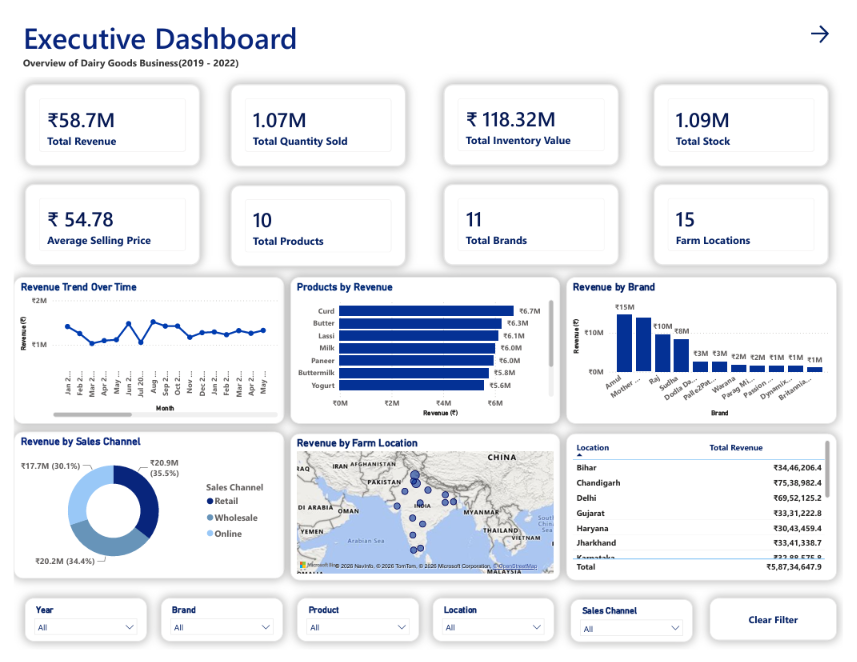

The dashboard page shown, as its layout file describes it:
{"tool":"powerbi","page":{"name":"Executive Dashboard","canvas":[1370,1050],"ordinal":1},"visuals":[{"type":"cardVisual","fields":{"Data":["Measures (2).Total Revenue"]},"box":[18.3,115,290,136.2],"z":0},{"type":"donutChart","title":"Revenue by Sales Channel","fields":{"Category":["Fact_DairySales.Sales Channel"],"Y":["Measures (2).Total Revenue"]},"box":[0,689.9,446.7,243.1],"z":1000},{"type":"map","title":"Revenue by Farm Location","fields":{"Category":["Fact_DairySales.Location"],"Size":["Measures (2).Total Revenue"]},"box":[456.6,693.2,446.7,243.1],"z":2000},{"type":"textbox","box":[10,0,938.3,101.7],"z":3000},{"type":"tableEx","fields":{"Values":["Fact_DairySales.Location","Measures (2).Total Revenue"]},"box":[912.9,692.9,447.1,242.9],"z":4000},{"type":"cardVisual","fields":{"Data":["Measures (2).Average Selling Price"]},"box":[18.3,280,290,135],"z":5000},{"type":"group","id":"g1","title":"Group 2","box":[0,434.3,1360,243.1],"z":6000},{"type":"cardVisual","fields":{"Data":["Measures (2).Total Products"]},"box":[358.3,281.7,290,135],"z":7000},{"type":"cardVisual","fields":{"Data":["Measures (2).Total Brands"]},"box":[710,280,290,135],"z":8000},{"type":"slicer","fields":{"Values":["Calendar.Year"]},"box":[18.3,965,201.7,71.7],"z":9000},{"type":"cardVisual","fields":{"Data":["Measures (2).Total Farm Locations"]},"box":[1056.7,280,290,135],"z":10000},{"type":"lineChart","title":"Revenue Trend Over Time","fields":{"Y":["Measures (2).Total Revenue"],"Category":["Calendar.Year Month"]},"box":[0,434.3,446.7,243.1],"z":10000,"group":"g1"},{"type":"clusteredBarChart","title":"Products by Revenue","fields":{"Category":["Fact_DairySales.Product Name"],"Y":["Measures (2).Total Revenue"]},"box":[456.6,434.3,446.7,243.1],"z":11000,"group":"g1"},{"type":"slicer","fields":{"Values":["Fact_DairySales.Brand"]},"box":[243.3,965,201.7,71.7],"z":11000},{"type":"cardVisual","fields":{"Data":["Measures (2).Total Stock"]},"box":[1056.7,115,290,136.7],"z":12000},{"type":"clusteredColumnChart","title":"Revenue by Brand","fields":{"Y":["Measures (2).Total Revenue"],"Category":["Fact_DairySales.Brand"]},"box":[913.3,434.3,446.7,243.1],"z":12000,"group":"g1"},{"type":"slicer","fields":{"Values":["Fact_DairySales.Product Name"]},"box":[468.3,965,201.7,71.7],"z":13000},{"type":"cardVisual","fields":{"Data":["Measures (2).Total Inventory Value"]},"box":[710,115,290,135],"z":14000},{"type":"slicer","fields":{"Values":["Fact_DairySales.Location"]},"box":[691.7,965,201.7,71.7],"z":15000},{"type":"cardVisual","fields":{"Data":["Measures (2).Total Quantity Sold"]},"box":[358.3,115,290,136.7],"z":16000},{"type":"slicer","fields":{"Values":["Fact_DairySales.Sales Channel"]},"box":[920,966.7,201.7,71.7],"z":17000},{"type":"actionButton","box":[1150,965,210,70],"z":18000},{"type":"actionButton","box":[1311.7,13.3,48.3,38.3],"z":19000}]}

Visuals, with their boxes in screenshot pixels (x1, y1, x2, y2), scaled from the page's 1370x1050 canvas onto the 857x662 screenshot:
cardVisual - Measures (2).Total Revenue: l=11, t=73, r=193, b=158
"Revenue by Sales Channel" donutChart: l=0, t=435, r=279, b=588
"Revenue by Farm Location" map: l=286, t=437, r=565, b=590
textbox: l=6, t=0, r=593, b=64
tableEx - Fact_DairySales.Location x Measures (2).Total Revenue: l=571, t=437, r=851, b=590
cardVisual - Measures (2).Average Selling Price: l=11, t=177, r=193, b=262
"Group 2" group: l=0, t=274, r=851, b=427
cardVisual - Measures (2).Total Products: l=224, t=178, r=406, b=263
cardVisual - Measures (2).Total Brands: l=444, t=177, r=626, b=262
slicer - Calendar.Year: l=11, t=608, r=138, b=654
cardVisual - Measures (2).Total Farm Locations: l=661, t=177, r=842, b=262
"Revenue Trend Over Time" lineChart: l=0, t=274, r=279, b=427
"Products by Revenue" clusteredBarChart: l=286, t=274, r=565, b=427
slicer - Fact_DairySales.Brand: l=152, t=608, r=278, b=654
cardVisual - Measures (2).Total Stock: l=661, t=73, r=842, b=159
"Revenue by Brand" clusteredColumnChart: l=571, t=274, r=851, b=427
slicer - Fact_DairySales.Product Name: l=293, t=608, r=419, b=654
cardVisual - Measures (2).Total Inventory Value: l=444, t=73, r=626, b=158
slicer - Fact_DairySales.Location: l=433, t=608, r=559, b=654
cardVisual - Measures (2).Total Quantity Sold: l=224, t=73, r=406, b=159
slicer - Fact_DairySales.Sales Channel: l=576, t=609, r=702, b=655
actionButton: l=719, t=608, r=851, b=653
actionButton: l=821, t=8, r=851, b=33
